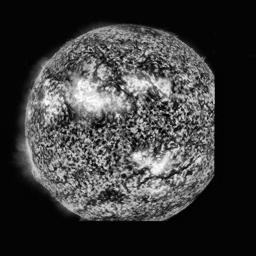solar flares: (71, 81, 107, 117), (43, 88, 61, 122), (155, 77, 174, 104), (126, 73, 145, 94), (132, 150, 153, 165), (148, 159, 165, 176)
sunspots: (141, 53, 166, 74), (97, 187, 122, 205), (94, 49, 113, 68), (55, 112, 76, 128), (91, 117, 110, 132), (129, 136, 145, 148)
